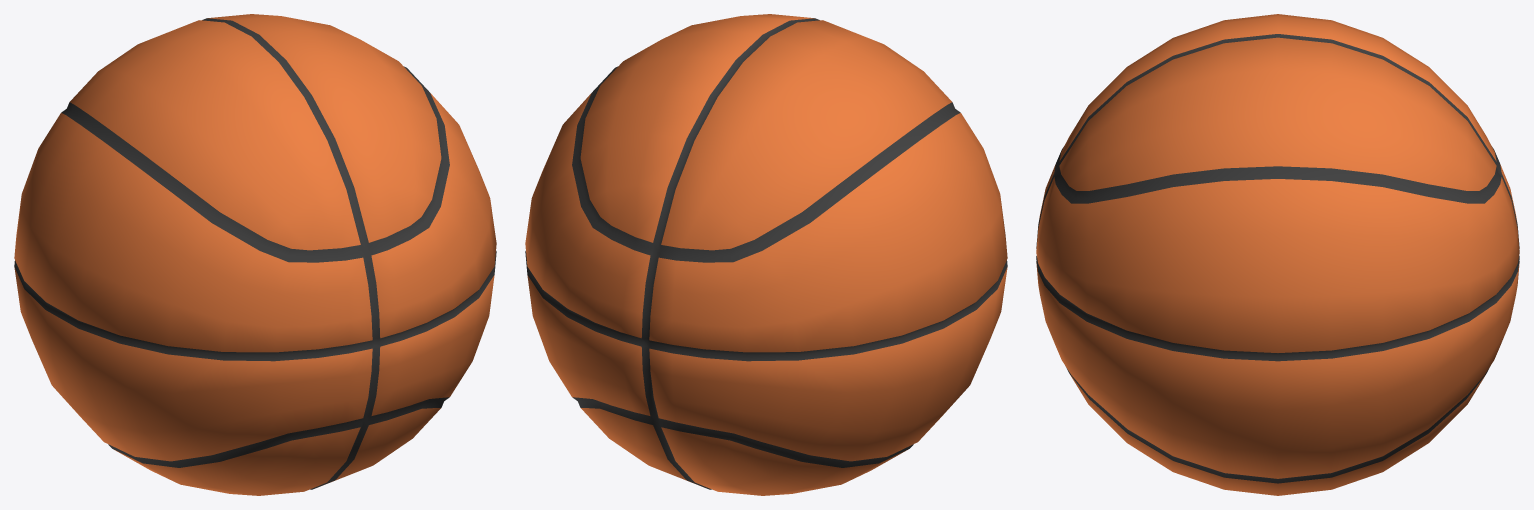
The model's file is basketball.glb.
The picture shows the model from 3 angles, left to right: view 1: azimuth 30°, elevation 25°; view 2: azimuth 150°, elevation 25°; view 3: azimuth 270°, elevation 25°; orthographic projection.
Parts seen in each view (by area): view 1: basketball; view 2: basketball; view 3: basketball.
Boxes of the visible parts, bbox=[...] form: basketball: bbox=[14, 14, 496, 495]; basketball: bbox=[525, 14, 1007, 495]; basketball: bbox=[1036, 14, 1519, 495].
Bounding box in the file's own units: 0.4346 × 0.4346 × 0.4343.
